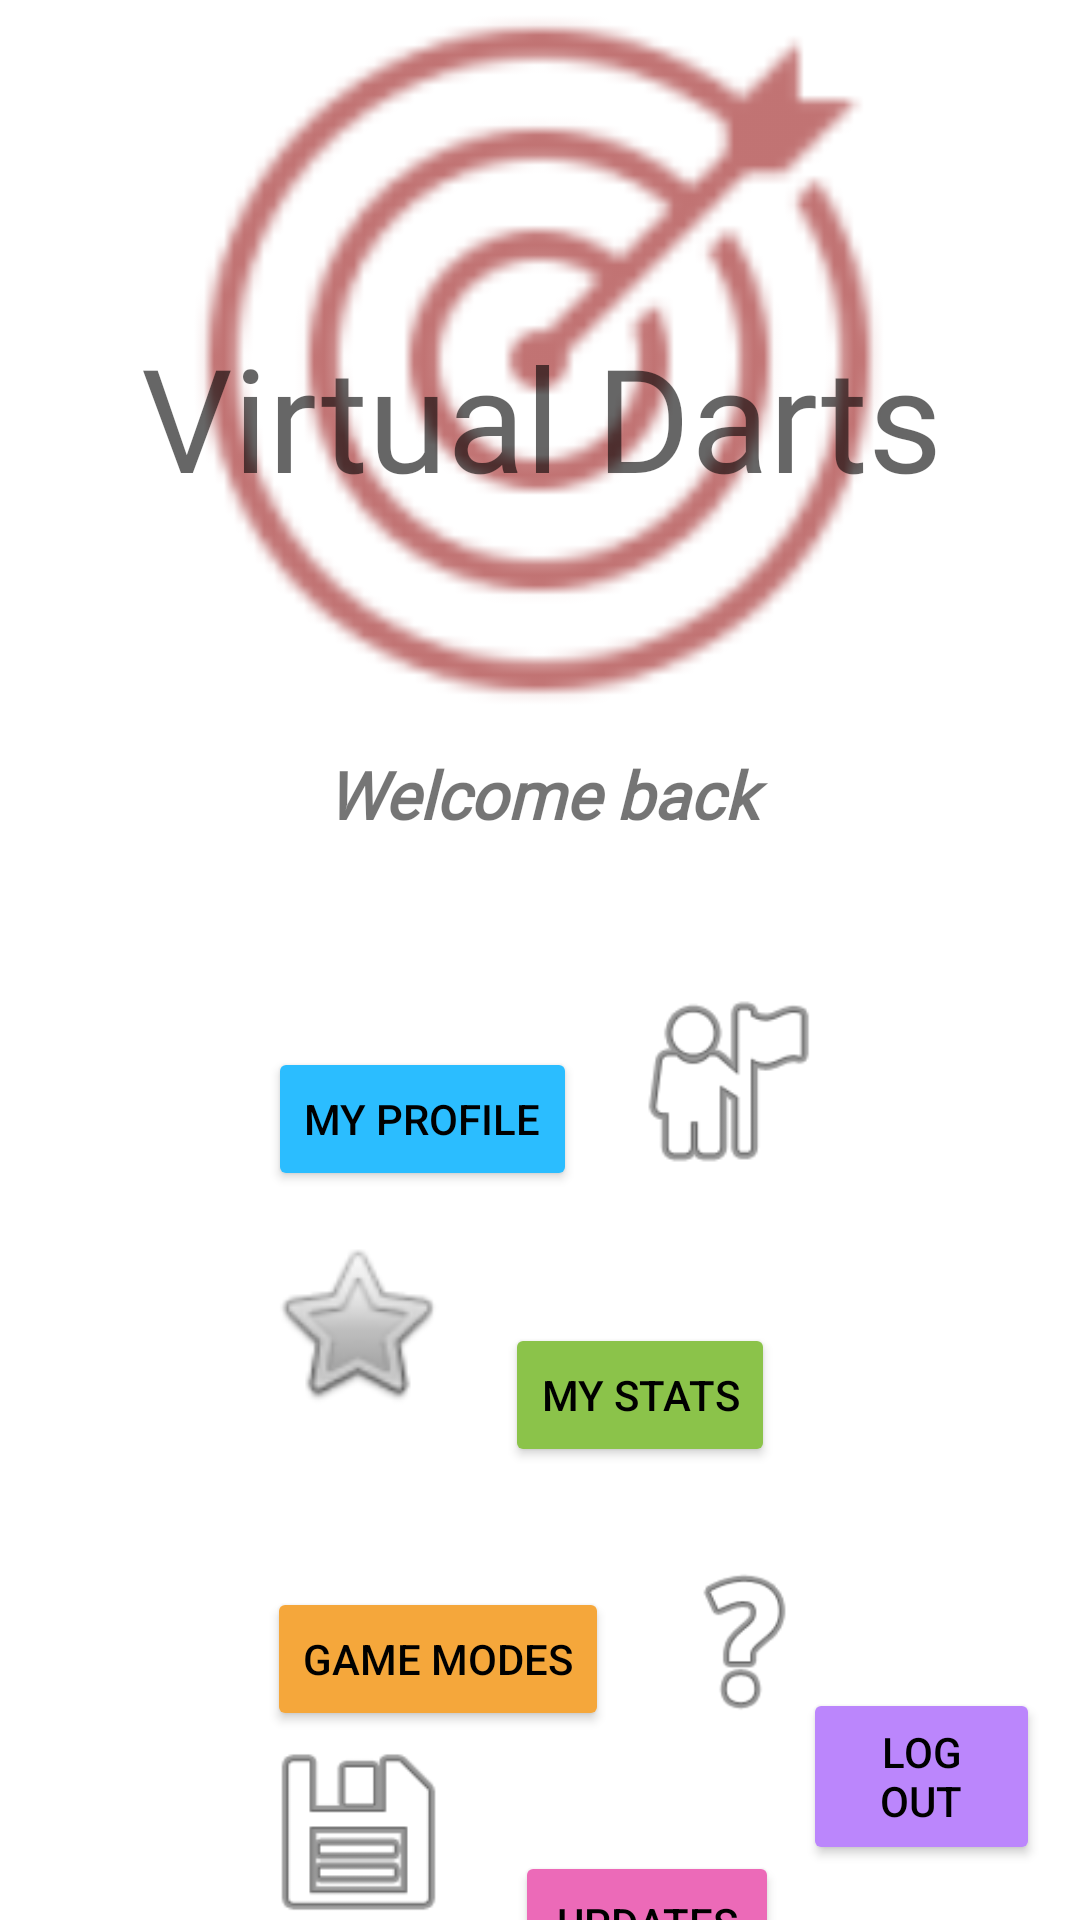

Named icons in this screenshot (1080px×1920px) and their centers, (x=x, y=y):
help: (x=745, y=1642)
myplaces: (x=728, y=1081)
save: (x=358, y=1832)
star: (x=358, y=1324)
